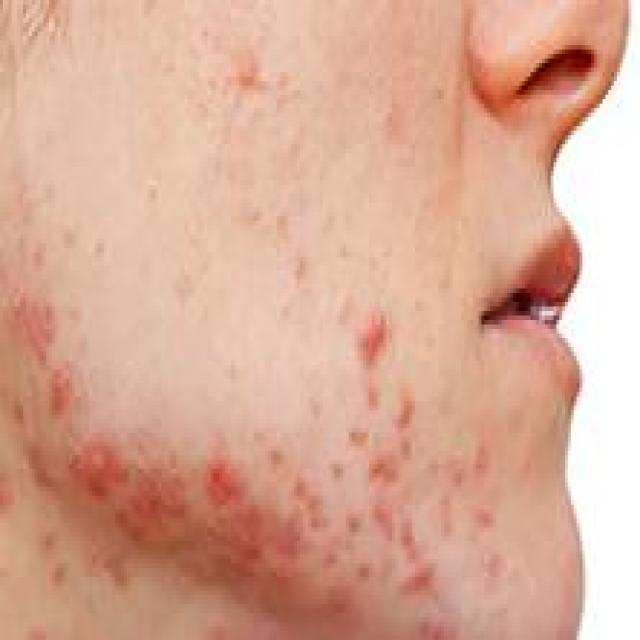blackheads: (355, 307, 386, 365), (478, 541, 508, 581), (236, 40, 262, 86), (392, 388, 412, 423), (84, 437, 104, 469), (343, 509, 363, 536), (473, 437, 487, 473), (142, 176, 162, 198), (268, 446, 286, 469), (357, 559, 375, 581), (63, 216, 75, 244), (332, 455, 343, 482)
